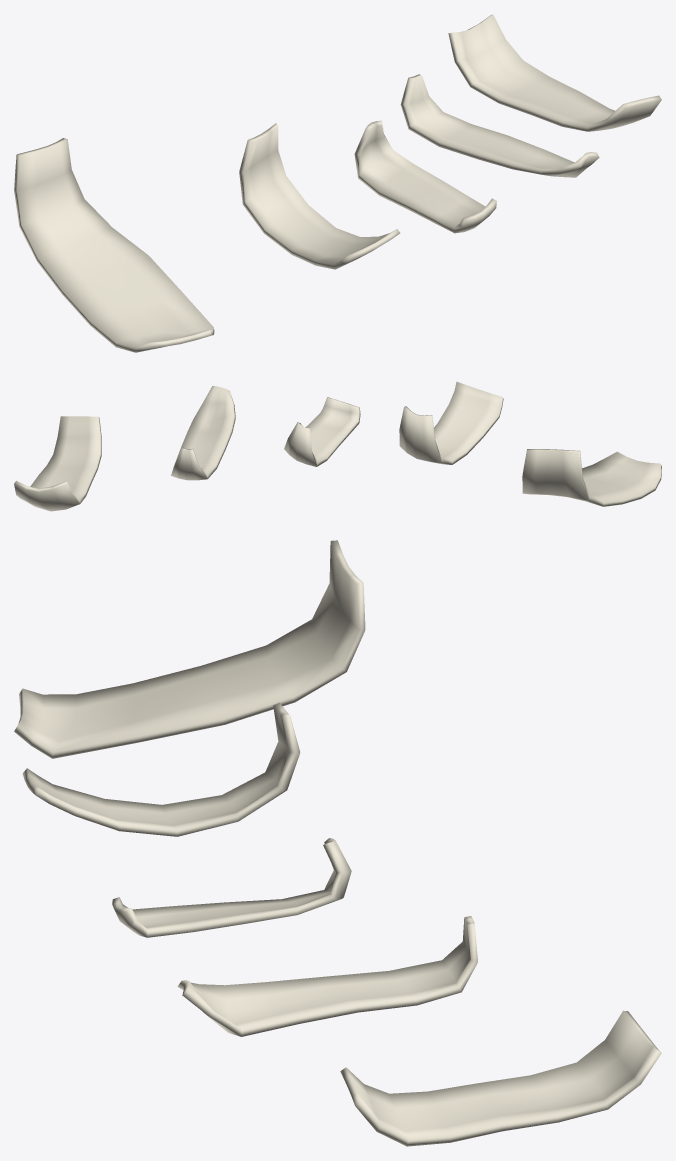
The picture shows the model from 3 angles, top to bottom: view 1: azimuth 30°, elevation 25°; view 2: azimuth 150°, elevation 25°; view 3: azimuth 270°, elevation 25°; orthographic projection. The views are drawn at different scales.
Parts seen in each view (by area): view 1: ZA_b519e8fdf9290a30; view 2: ZA_b519e8fdf9290a30; view 3: ZA_b519e8fdf9290a30.
Part boxes in pixels (bbox=[...]): ZA_b519e8fdf9290a30: bbox=[14, 14, 661, 352]; ZA_b519e8fdf9290a30: bbox=[14, 381, 661, 511]; ZA_b519e8fdf9290a30: bbox=[14, 540, 661, 1146].
Bounding box in the file's own units: 0.0682 × 0.0144 × 0.044.
